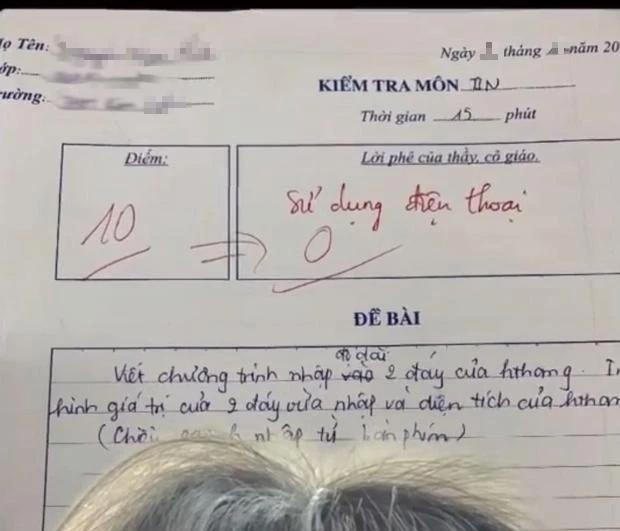text: (45, 383, 620, 425), (113, 355, 620, 396), (94, 418, 469, 454), (285, 179, 529, 233), (357, 146, 542, 169), (358, 104, 538, 127), (318, 74, 501, 95), (78, 200, 138, 252), (351, 304, 422, 330), (334, 343, 390, 368), (302, 223, 333, 266), (0, 35, 52, 56), (0, 85, 48, 107), (123, 147, 169, 169), (565, 39, 620, 57), (437, 43, 478, 65), (502, 42, 545, 62), (0, 58, 22, 80)
